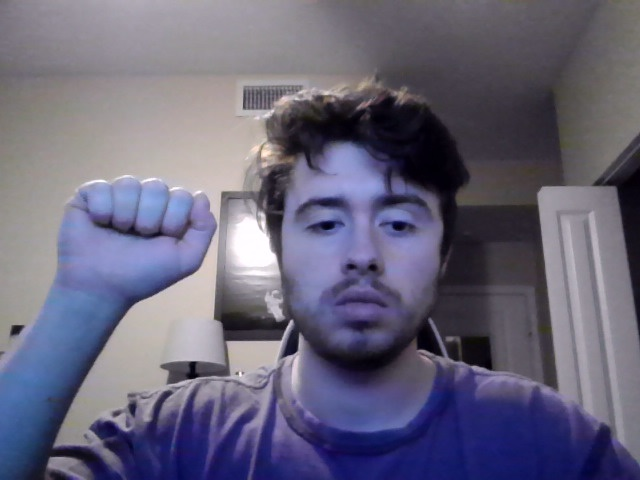a: (57, 175, 217, 304)
